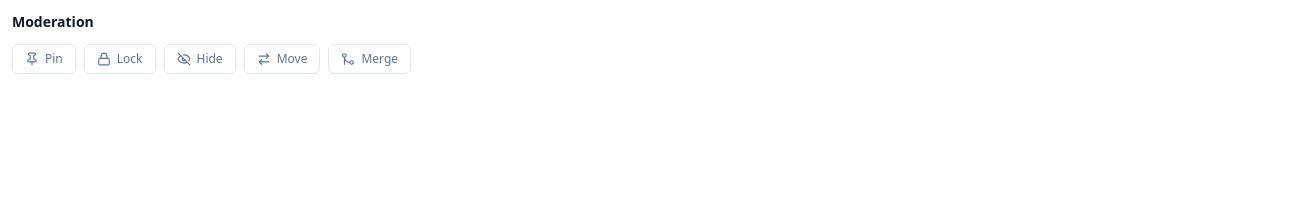
Test: ModerationActions › shows move panel when Move clicked
The image size is (1292, 224).
Click the button with test id "action-move-toggle": (282,59) [244, 44, 320, 74]
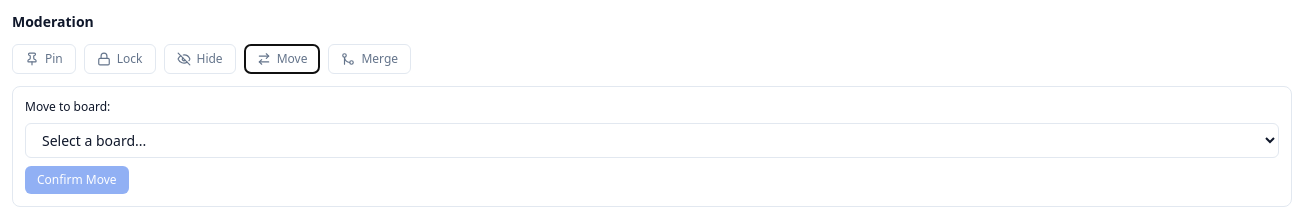
Expected: the element with test id "move-panel" is shown, [12, 86, 1291, 207]
